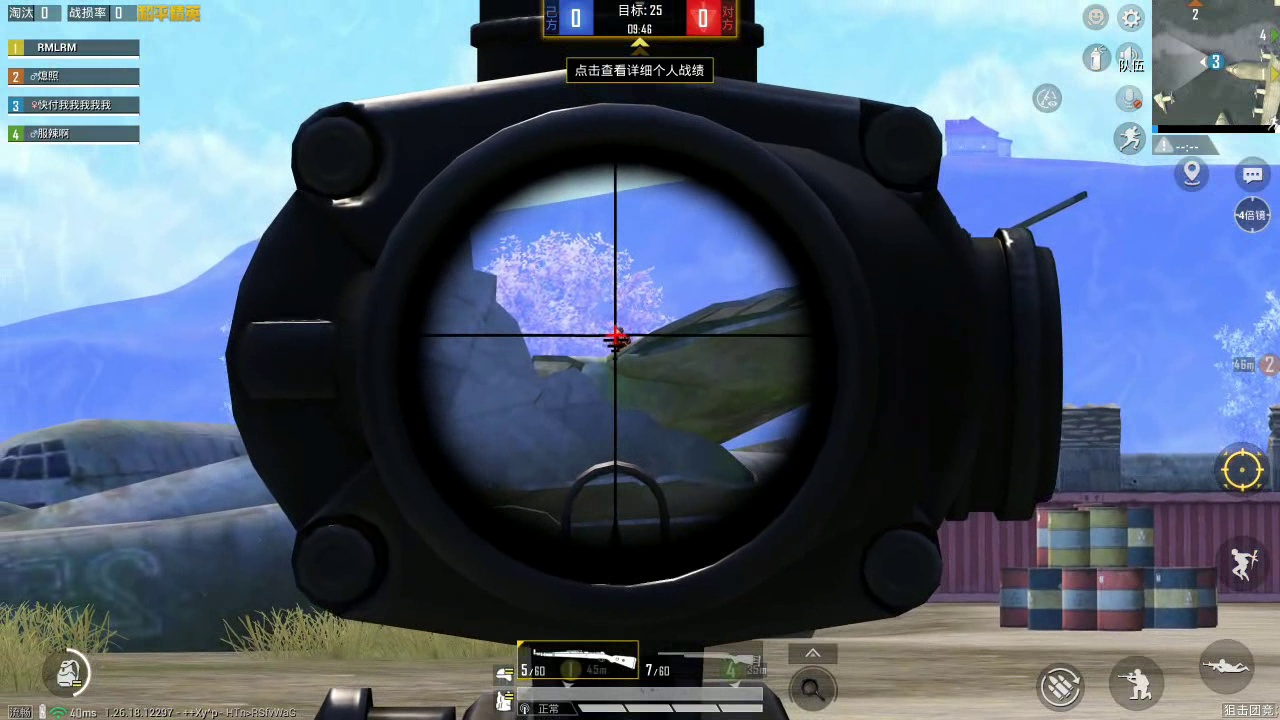enemy: (607, 321, 630, 352)
